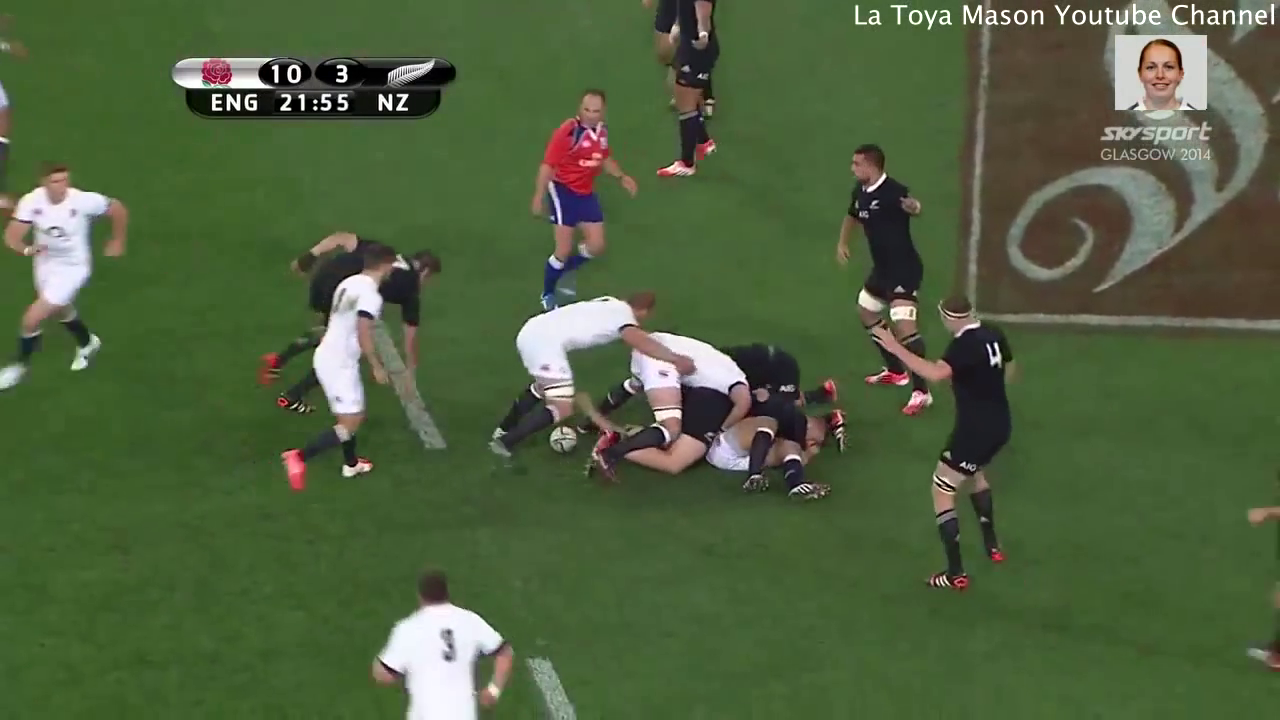player: (877, 294, 1024, 594), (1, 152, 136, 392), (821, 143, 937, 420), (279, 239, 405, 488), (513, 90, 640, 302), (497, 294, 657, 455), (361, 572, 516, 720), (624, 331, 737, 415)
ruck: (594, 330, 858, 510)
